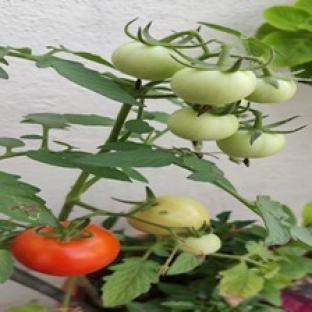Tomato: (12, 225, 119, 275), (127, 195, 210, 235), (172, 67, 256, 105), (112, 41, 183, 80), (168, 108, 239, 140), (216, 130, 285, 158), (246, 78, 296, 103), (179, 234, 221, 256)
